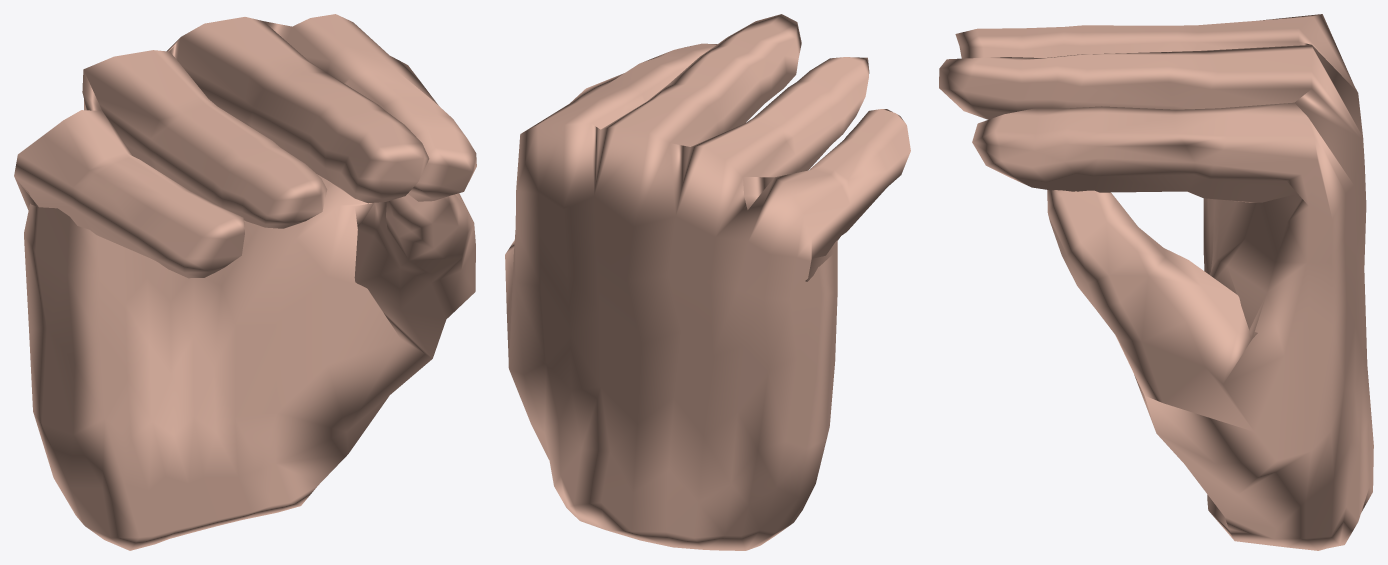
The model's file is O_CURVADO.obj.
3 renders of one model, left to right at view 1: azimuth 30°, elevation 25°; view 2: azimuth 150°, elevation 25°; view 3: azimuth 270°, elevation 25°, orthographic. The views are drawn at different scales.
Visible parts, largest first — view 1: mao_dir:mao_dir; view 2: mao_dir:mao_dir; view 3: mao_dir:mao_dir.
Boxes of the visible parts, x1,y1,x2,y2 form: mao_dir:mao_dir: [14, 14, 476, 550]; mao_dir:mao_dir: [505, 14, 910, 550]; mao_dir:mao_dir: [939, 14, 1373, 550].
Bounding box in the file's own units: 136 × 148 × 125.
